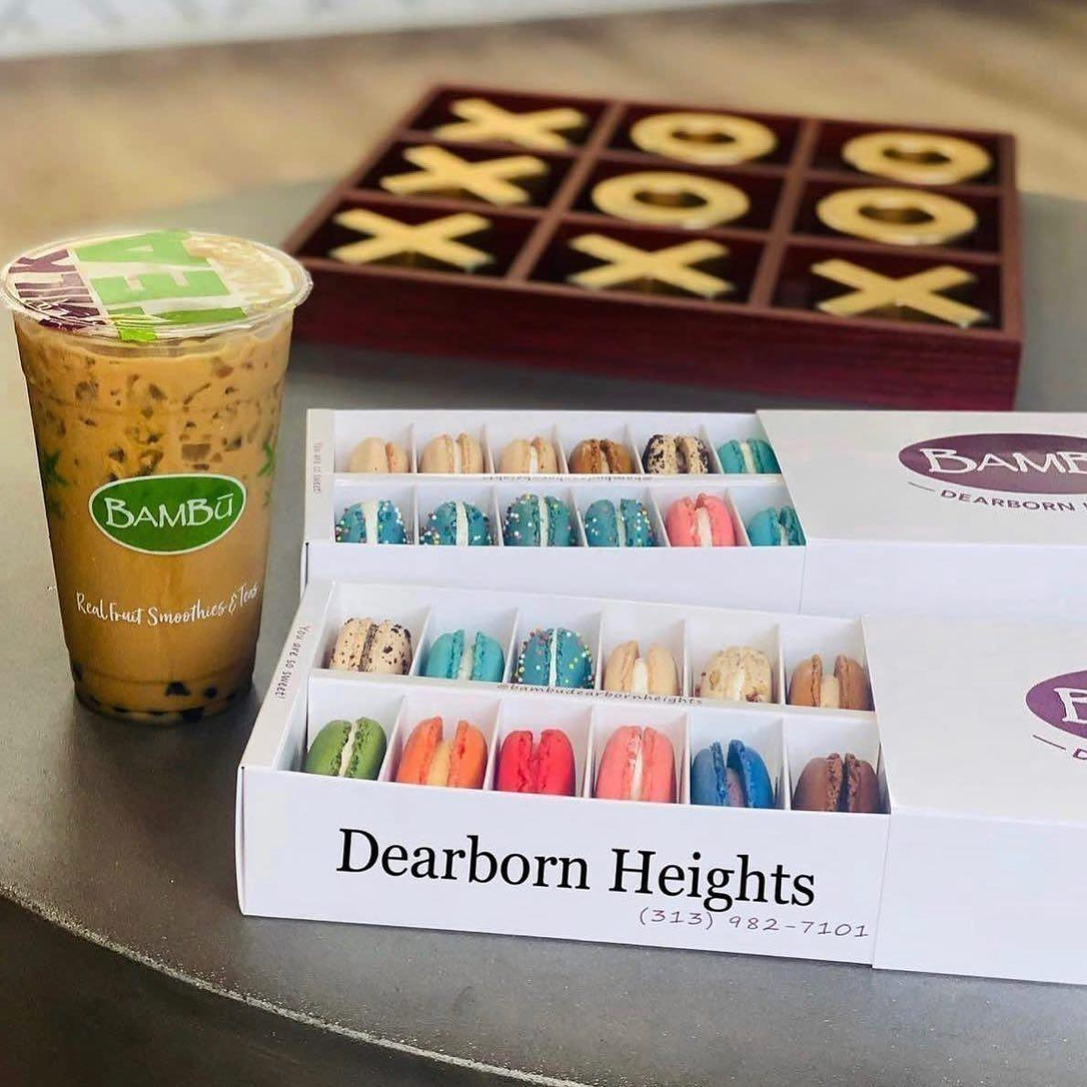cup-disposable: (1, 216, 313, 738)
